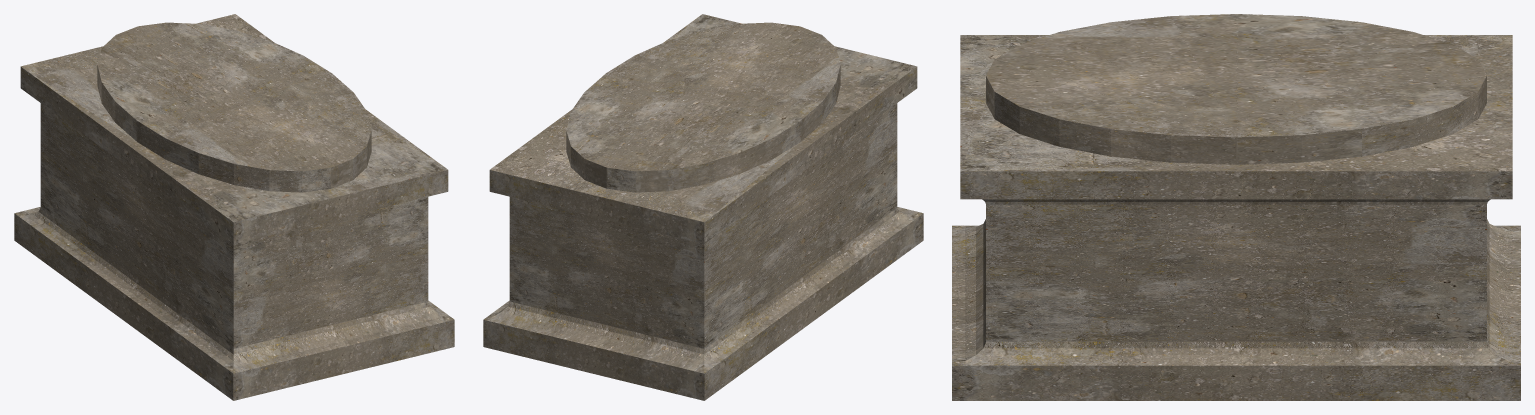
Rendered from platforms.fbx.
3 views of the same model, side by side, from view 1: azimuth 30°, elevation 25°; view 2: azimuth 150°, elevation 25°; view 3: azimuth 270°, elevation 25° (orthographic). The views are drawn at different scales.
Visible parts, largest first — view 1: Cube; view 2: Cube; view 3: Cube.
Part boxes in pixels (x1,y1,x2,y2): Cube: [14, 14, 454, 400]; Cube: [483, 14, 923, 400]; Cube: [952, 14, 1520, 400].
Size of the model in its own units: 166 by 141 by 285.
1 material, 1 textured.
